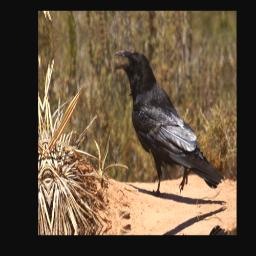Crow: (114, 35, 226, 204)
